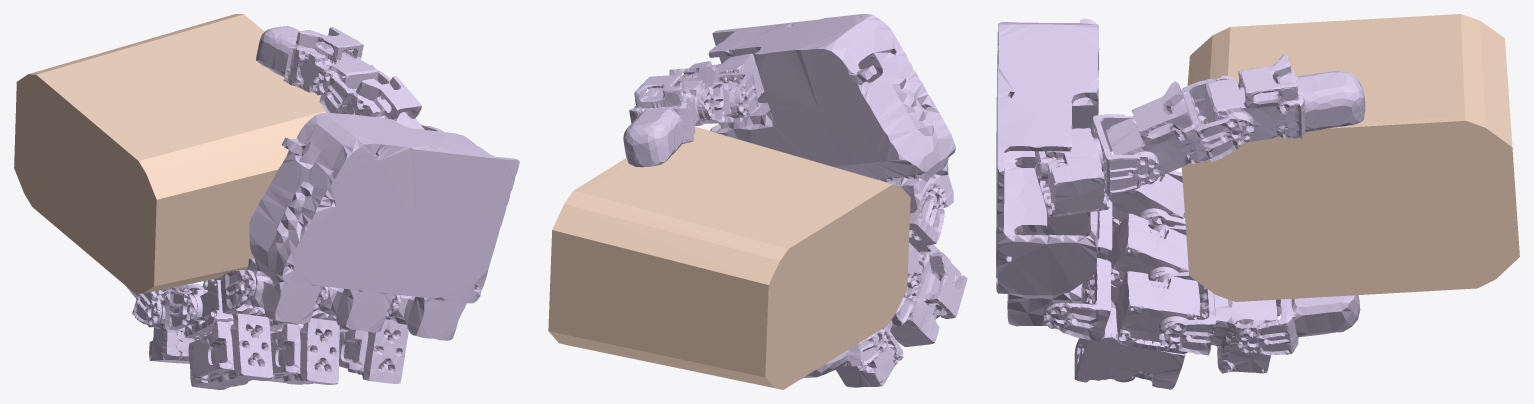
3 views of the same model, side by side, from view 1: azimuth 30°, elevation 25°; view 2: azimuth 150°, elevation 25°; view 3: azimuth 270°, elevation 25° (orthographic). The views are drawn at different scales.
Parts seen in each view (by area): view 1: LEAP_hand, world; view 2: world, LEAP_hand; view 3: LEAP_hand, world.
Part boxes in pixels (box(x1,y1,x2,y2)): LEAP_hand: box(126, 26, 519, 389); world: box(14, 14, 325, 293); world: box(548, 126, 910, 389); LEAP_hand: box(623, 14, 967, 387); LEAP_hand: box(996, 18, 1365, 389); world: box(1181, 14, 1519, 301).
Size of the model in its own units: 0.1677 by 0.1681 by 0.2396.
